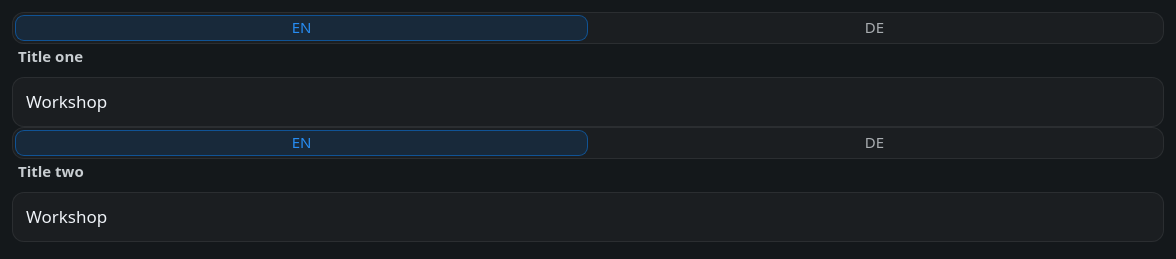
gives every card its own choice
The width and height of the screenshot is (1176, 259).
Click the 1st button "DE" at (874, 28), box x1=588 y1=15 x2=1161 y2=41
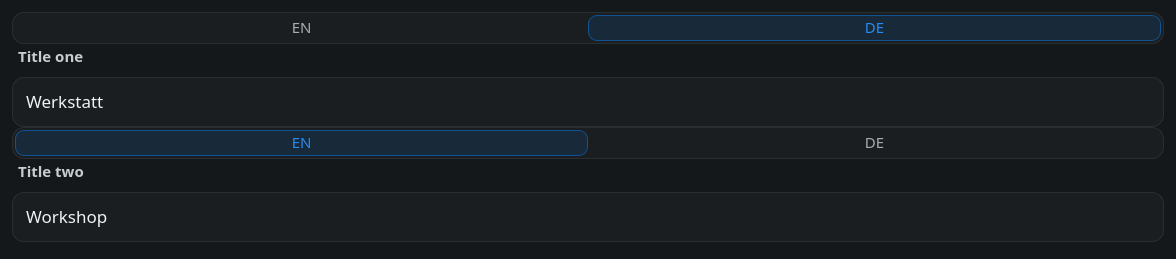
Expected: the field labelled "Title two" holds "Workshop", x1=12 y1=192 x2=1164 y2=242
Now the field labelled "Title one" holds "Werkstatt", box x1=12 y1=77 x2=1164 y2=127
